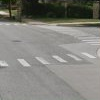crosswalk: (0, 51, 96, 66)
